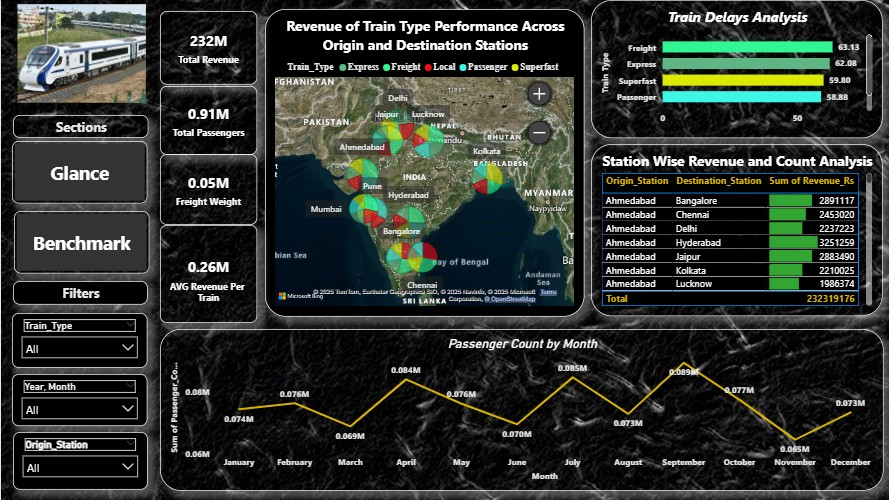

The page's visual inventory and layout, read from the dashboard file:
{"tool":"powerbi","page":{"name":"Benchmark","canvas":[1280,720],"ordinal":1},"visuals":[{"type":"clusteredBarChart","title":"Train Delays Analysis ","fields":{"Category":["Indian_Railways_Performance_Analysis.Train_Type"],"Y":["Avg(Indian_Railways_Performance_Analysis.Delay_Minutes)"]},"box":[849.4,0,419.9,199],"z":0},{"type":"map","title":"Revenue of Train Type Performance Across Origin and Destination Stations","fields":{"Size":["Sum(Indian_Railways_Performance_Analysis.Revenue_Rs)"],"Category":["Indian_Railways_Performance_Analysis.Origin_Station","Indian_Railways_Performance_Analysis.Destination_Station"],"Series":["Indian_Railways_Performance_Analysis.Train_Type"]},"box":[380.1,12.3,459.7,443.2],"z":1000},{"type":"tableEx","title":"Station Wise Revenue and Count Analysis","fields":{"Values":["Indian_Railways_Performance_Analysis.Origin_Station","Indian_Railways_Performance_Analysis.Destination_Station","Sum(Indian_Railways_Performance_Analysis.Revenue_Rs)"]},"box":[849.4,207.2,419.9,248.4],"z":2000},{"type":"lineChart","title":"Passenger Count by Month","fields":{"Y":["Sum(Indian_Railways_Performance_Analysis.Passenger_Count)"],"Category":["Indian_Railways_Performance_Analysis.Month_Year.Variation.Date Hierarchy.Month"]},"box":[228.3,473.3,1041.7,233.3],"z":3000},{"type":"shape","title":"Sections","box":[16.7,165,195,33.3],"z":4000},{"type":"shape","box":[16.2,202.5,195,90],"z":5000},{"type":"shape","box":[18.8,303.8,195,90],"z":6000},{"type":"shape","title":"Filters","box":[17.5,405,193.8,33.8],"z":7000},{"type":"slicer","fields":{"Values":["Indian_Railways_Performance_Analysis.Train_Type"]},"box":[16.2,451.2,195,78.8],"z":8000},{"type":"slicer","fields":{"Values":["Indian_Railways_Performance_Analysis.Month_Year.Variation.Date Hierarchy.Year","Indian_Railways_Performance_Analysis.Month_Year.Variation.Date Hierarchy.Month"]},"box":[16.2,538.8,195,75],"z":9000},{"type":"slicer","fields":{"Values":["Indian_Railways_Performance_Analysis.Origin_Station"]},"box":[17.5,622.5,193.8,82.5],"z":10000},{"type":"card","fields":{"Values":["Indian_Railways_Performance_Analysis.Total Revenue"]},"box":[229.2,16.5,140,105.7],"z":11000},{"type":"card","fields":{"Values":["Indian_Railways_Performance_Analysis.Total Passengers"]},"box":[229.2,123.5,140,98.8],"z":12000},{"type":"card","fields":{"Values":["Indian_Railways_Performance_Analysis.Freight Weight"]},"box":[229.2,222.3,140,101.5],"z":13000},{"type":"card","fields":{"Values":["Indian_Railways_Performance_Analysis.AVG Revenue Per Train"]},"box":[229.2,323.8,140,141.3],"z":14000},{"type":"image","box":[18.3,0,195,153.3],"z":15000}]}

Visuals, with their boxes in screenshot pixels (x1, y1, x2, y2), scaled from the page's 1280x720 canvas onto the 889x500 screenshot:
"Train Delays Analysis " clusteredBarChart: <box>590,0,882,138</box>
"Revenue of Train Type Performance Across Origin and Destination Stations" map: <box>264,9,583,316</box>
"Station Wise Revenue and Count Analysis" tableEx: <box>590,144,882,316</box>
"Passenger Count by Month" lineChart: <box>159,329,882,491</box>
"Sections" shape: <box>12,115,147,138</box>
shape: <box>11,141,147,203</box>
shape: <box>13,211,148,273</box>
"Filters" shape: <box>12,281,147,305</box>
slicer - Indian_Railways_Performance_Analysis.Train_Type: <box>11,313,147,368</box>
slicer - Indian_Railways_Performance_Analysis.Month_Year.Variation.Date Hierarchy.Year x Indian_Railways_Performance_Analysis.Month_Year.Variation.Date Hierarchy.Month: <box>11,374,147,426</box>
slicer - Indian_Railways_Performance_Analysis.Origin_Station: <box>12,432,147,490</box>
card - Indian_Railways_Performance_Analysis.Total Revenue: <box>159,11,256,85</box>
card - Indian_Railways_Performance_Analysis.Total Passengers: <box>159,86,256,154</box>
card - Indian_Railways_Performance_Analysis.Freight Weight: <box>159,154,256,225</box>
card - Indian_Railways_Performance_Analysis.AVG Revenue Per Train: <box>159,225,256,323</box>
image: <box>13,0,148,106</box>
